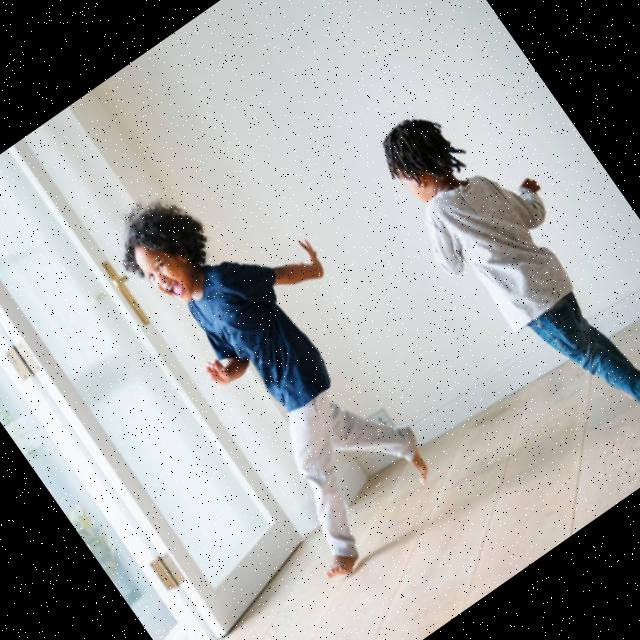Person: (92, 138, 476, 582), (361, 78, 640, 478)
